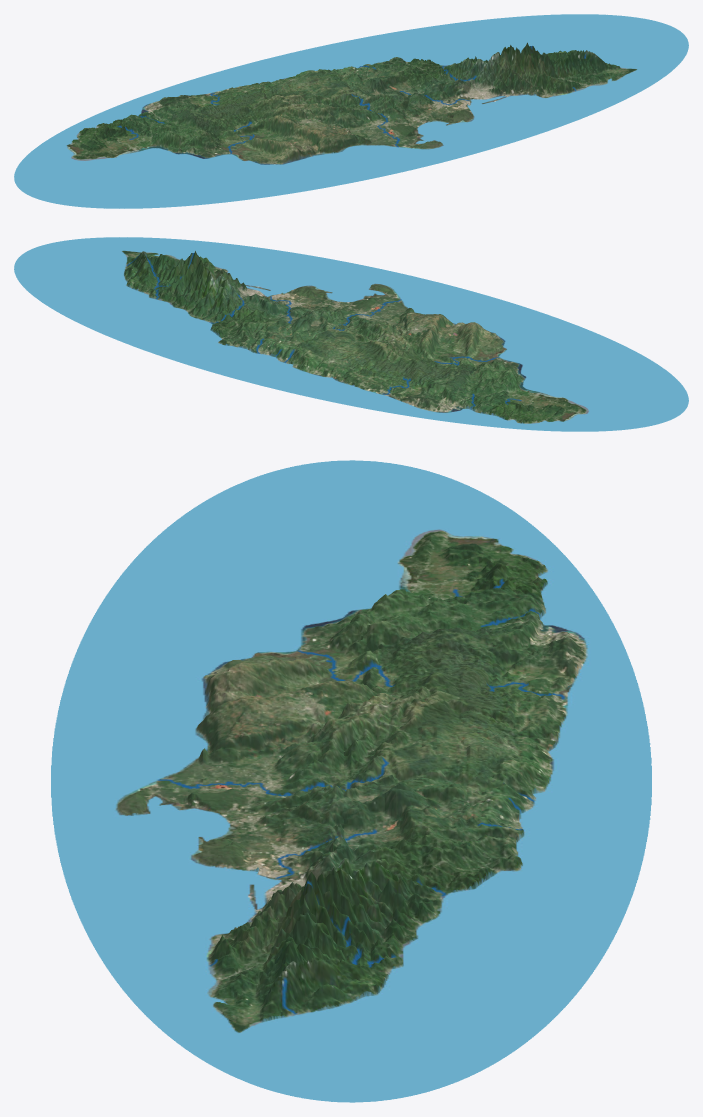
The model's file is JAM-previa-terrain.glb.
3 views of the same model, one above another, from view 1: azimuth 30°, elevation 25°; view 2: azimuth 150°, elevation 25°; view 3: azimuth 270°, elevation 25° (orthographic). The views are drawn at different scales.
Parts seen in each view (by area): view 1: Jamaica; view 2: Jamaica; view 3: Jamaica.
Boxes of the visible parts, box(x1,y1,x2,y2) form: Jamaica: box(14, 14, 688, 208); Jamaica: box(14, 237, 688, 431); Jamaica: box(51, 460, 651, 1102).
Size of the model in its own units: 2.24 by 0.1173 by 0.8868.
1 material, 1 textured.
